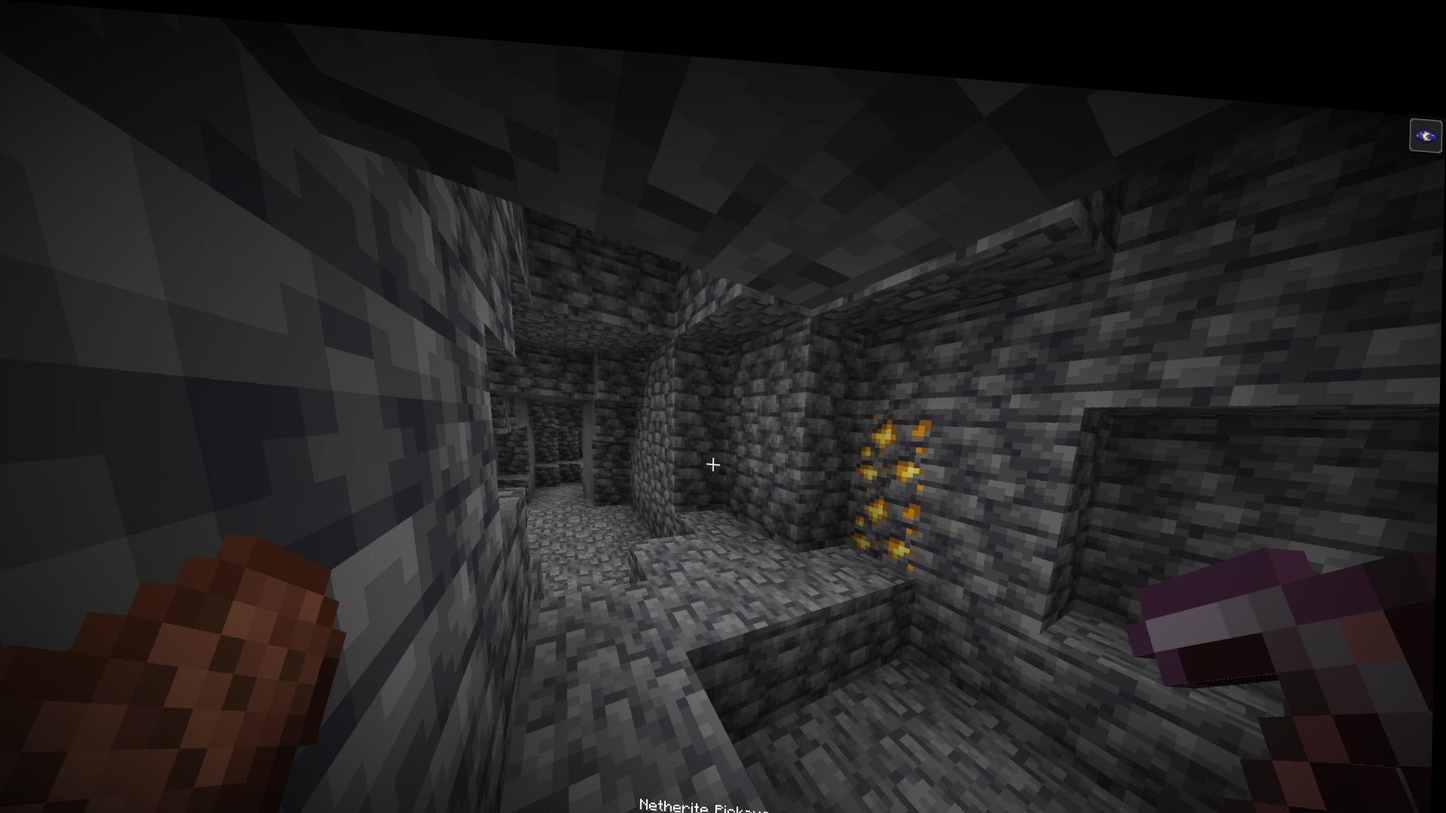gold ore: (855, 394, 934, 475), (849, 470, 922, 554)
